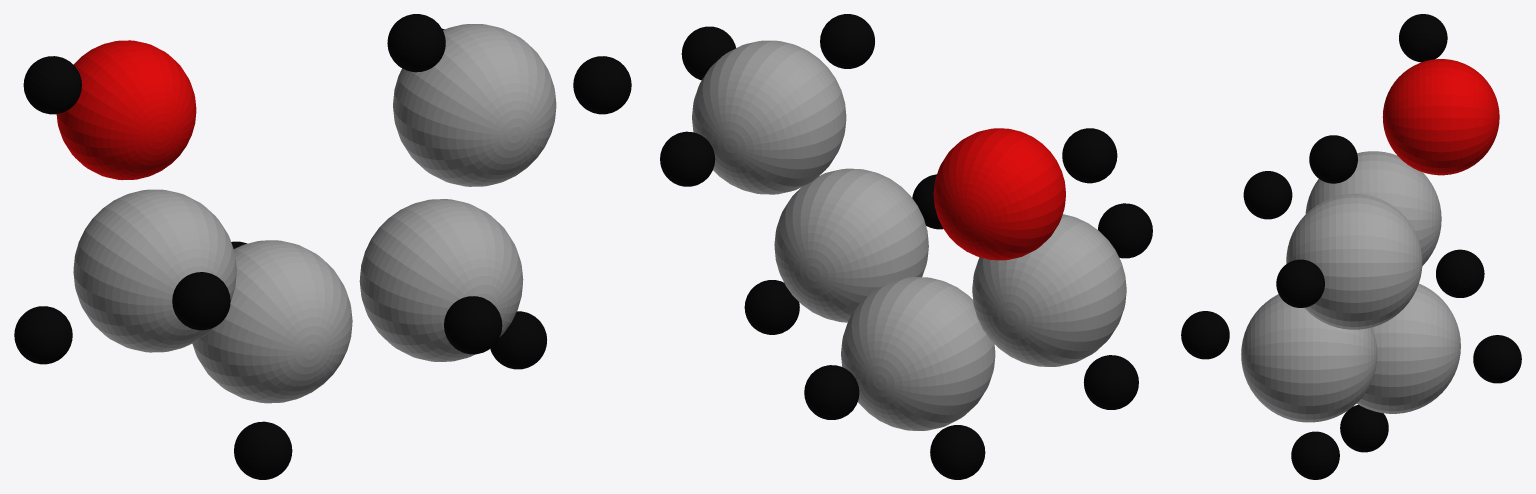
The model's file is Butanol.glb.
The picture shows the model from 3 angles, left to right: view 1: azimuth 30°, elevation 25°; view 2: azimuth 150°, elevation 25°; view 3: azimuth 270°, elevation 25°; orthographic projection. The views are drawn at different scales.
Visible parts, largest first — view 1: world; view 2: world; view 3: world.
Boxes of the visible parts, x1,y1,x2,y2 form: world: (14,14,631,479); world: (660,14,1152,479); world: (1181,14,1521,479).
Bounding box in the file's own units: 5.36 × 4.16 × 3.5.
